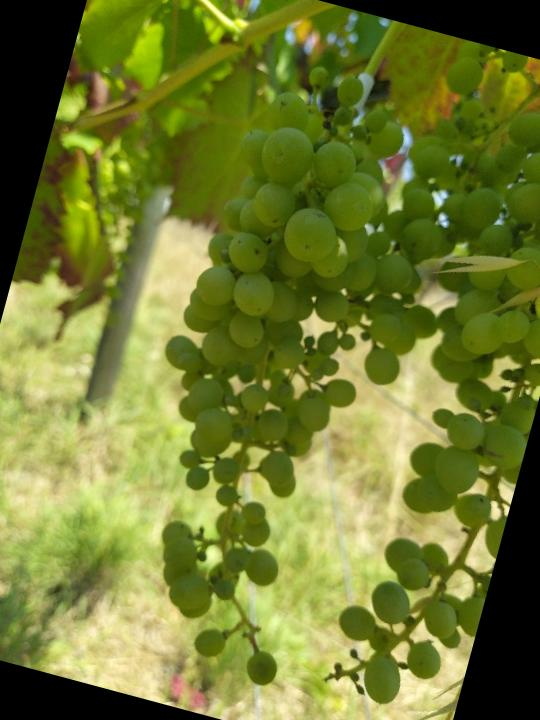grape: (83, 44, 493, 713)
